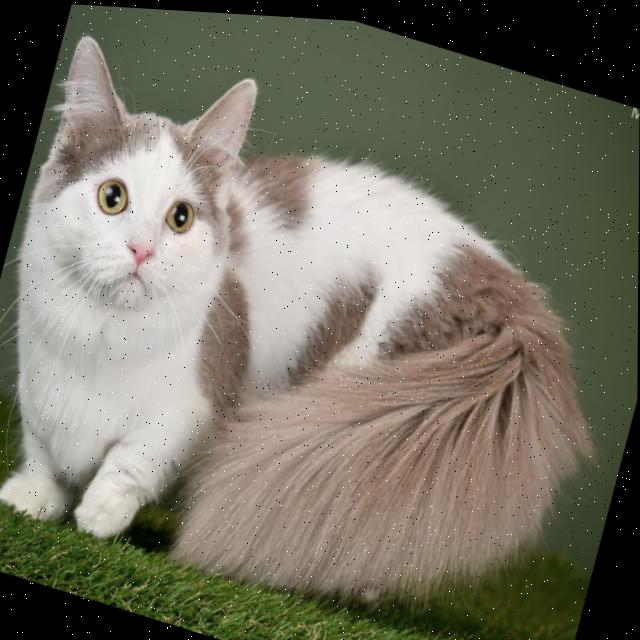Munchkin: (0, 3, 640, 640)
